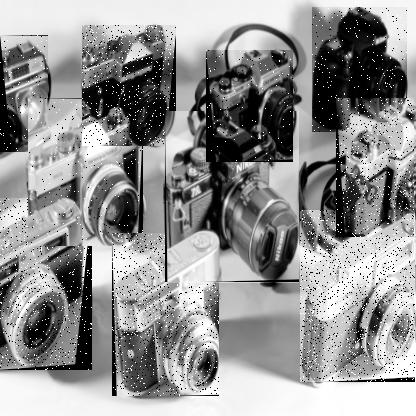Camera: (166, 113, 301, 287), (301, 211, 416, 384), (113, 234, 221, 398), (30, 99, 146, 248), (1, 199, 94, 372), (313, 8, 409, 134), (83, 26, 178, 148), (337, 99, 416, 239), (207, 51, 295, 164), (1, 36, 50, 154)
